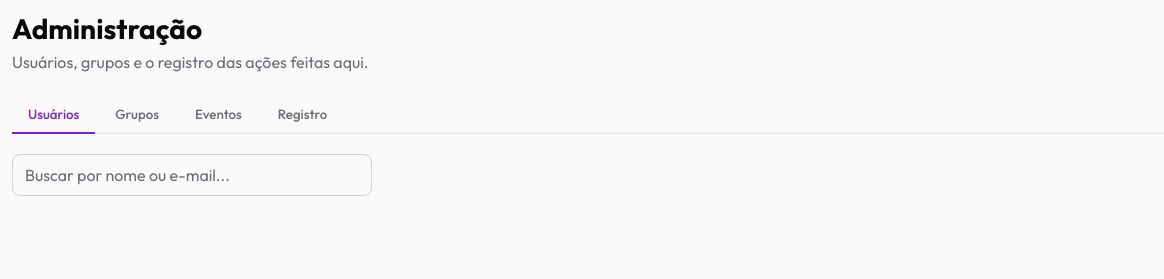
Test: Admin — grupos, eventos e registro › eventos: estado vazio
The width and height of the screenshot is (1164, 279).
Click the button "Eventos": click(218, 115) [179, 96, 258, 134]
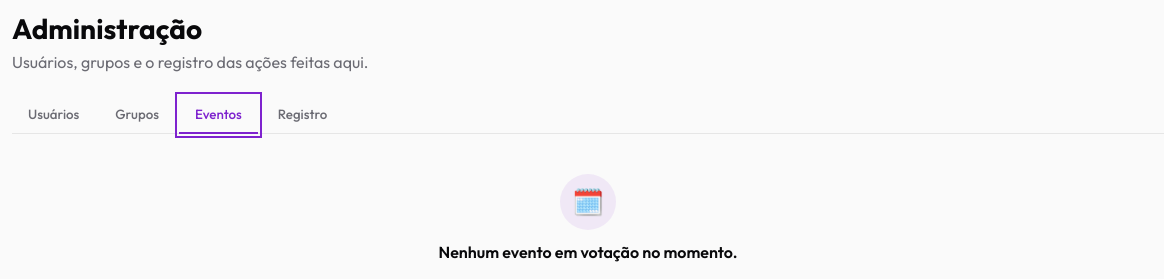
Expected: the text "Nenhum evento em votação no momento." is shown, [438, 242, 737, 262]
